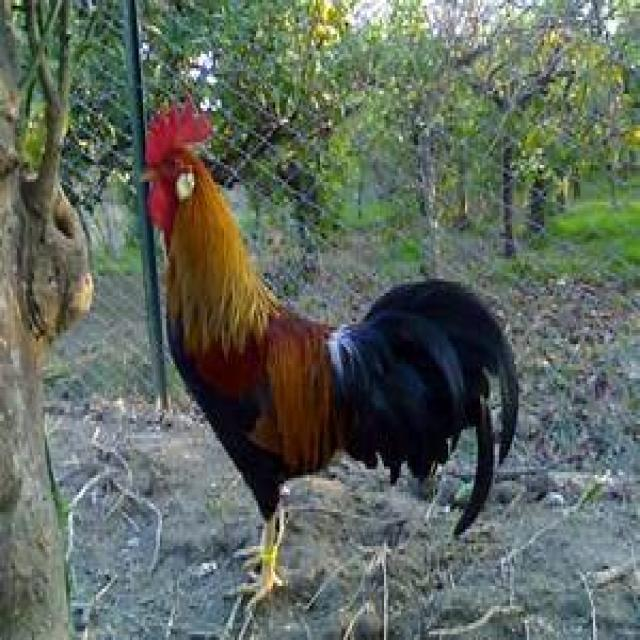chicken: (136, 91, 518, 612)
